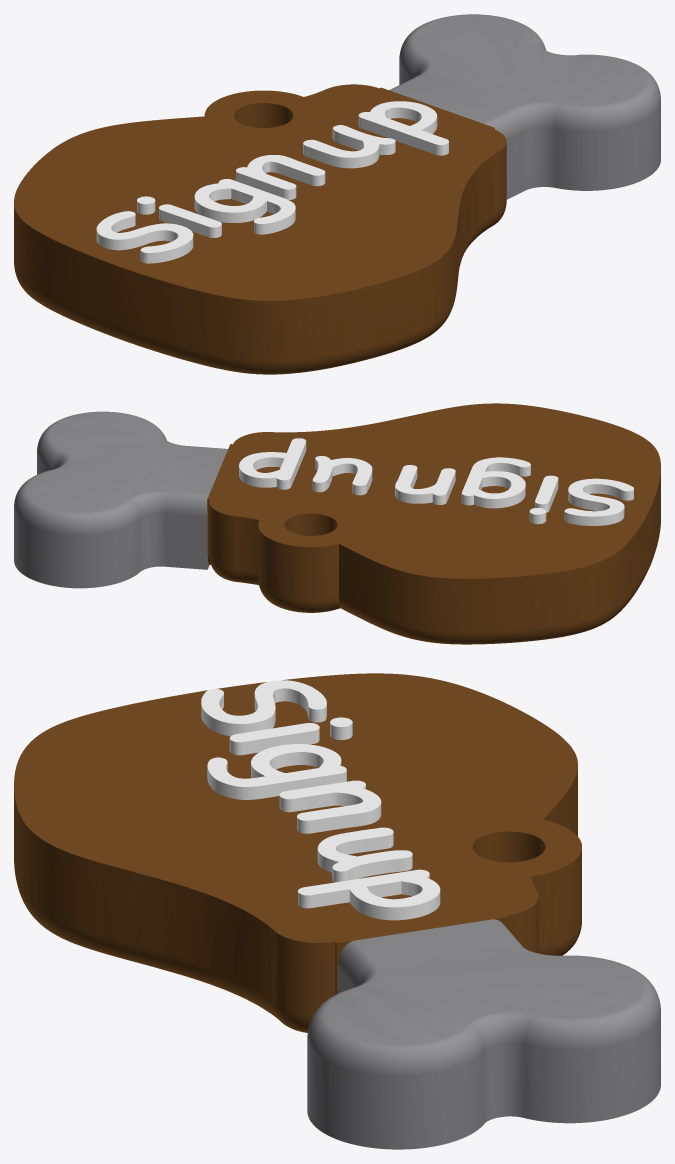
The model's file is Bone_signup.glb.
The picture shows the model from 3 angles, top to bottom: view 1: azimuth 30°, elevation 25°; view 2: azimuth 150°, elevation 25°; view 3: azimuth 270°, elevation 25°; orthographic projection. The views are drawn at different scales.
Size of the model in its own units: 0.0502 by 0.0068 by 0.0362.
